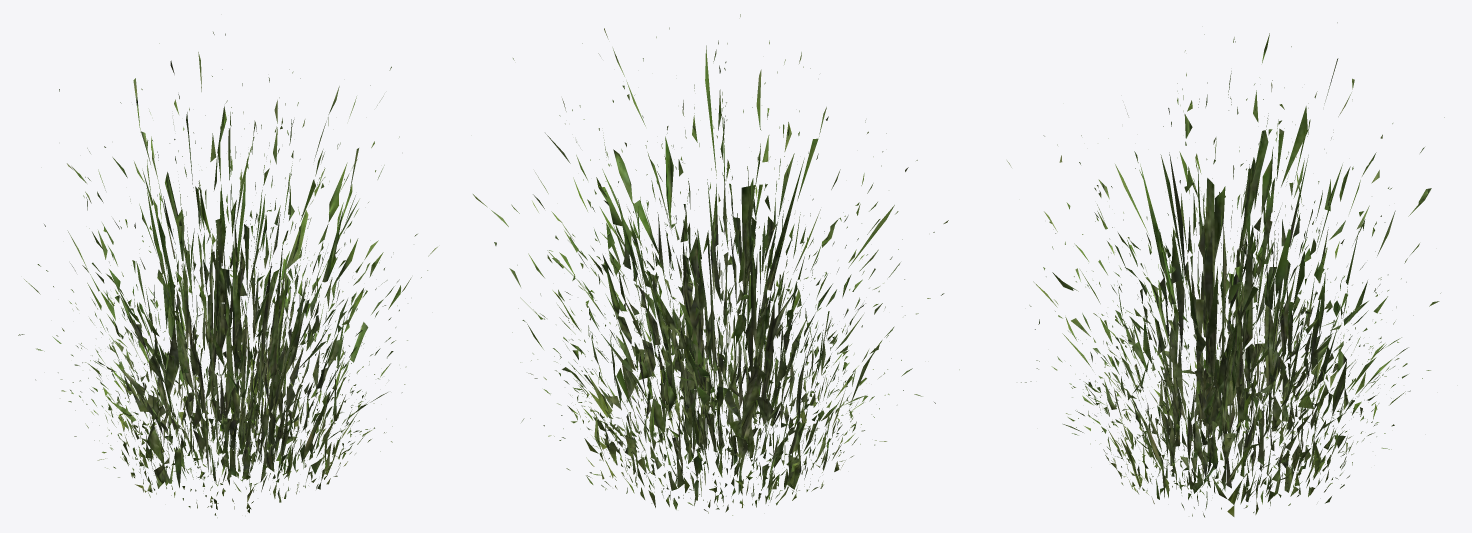
The model's file is kw_clump.glb.
3 views of the same model, side by side, from view 1: azimuth 30°, elevation 25°; view 2: azimuth 150°, elevation 25°; view 3: azimuth 270°, elevation 25° (orthographic). The views are drawn at different scales.
Parts seen in each view (by area): view 1: frame; view 2: frame; view 3: frame.
Boxes of the visible parts, box(x1,y1,x2,y2) form: frame: box(18, 32, 437, 517); frame: box(473, 14, 959, 515); frame: box(1007, 22, 1444, 517).
Bounding box in the file's own units: 0.7829 × 0.7852 × 0.7375.
Materials: 1 (1 with a texture image).
